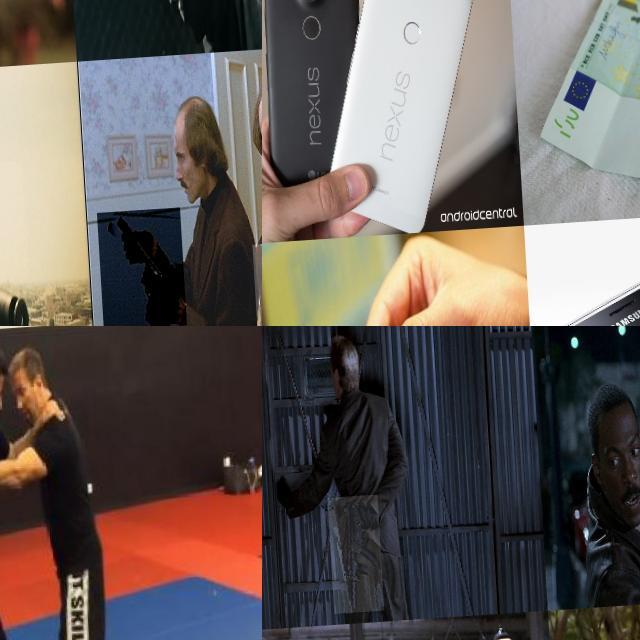-: (0, 587, 27, 640)
gun-knife-thesis - v11 Yolov5 augmented: (0, 164, 90, 326), (0, 0, 128, 85), (90, 213, 179, 326), (325, 496, 380, 616), (140, 0, 191, 57), (245, 250, 262, 326)
